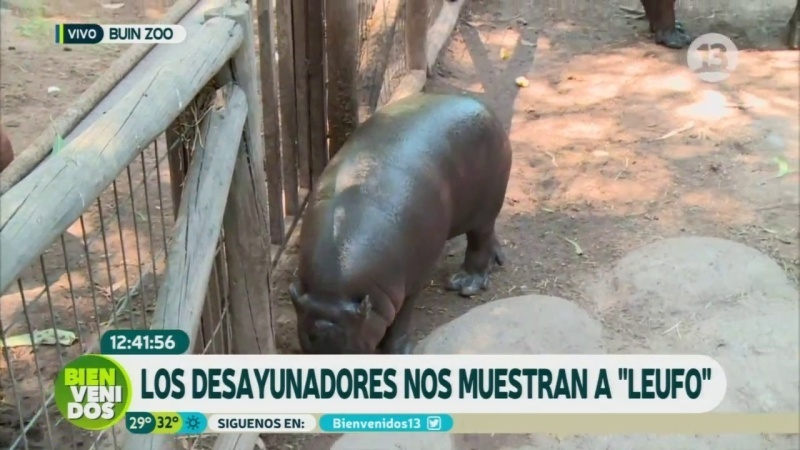hipopotamo: (269, 83, 531, 352)
